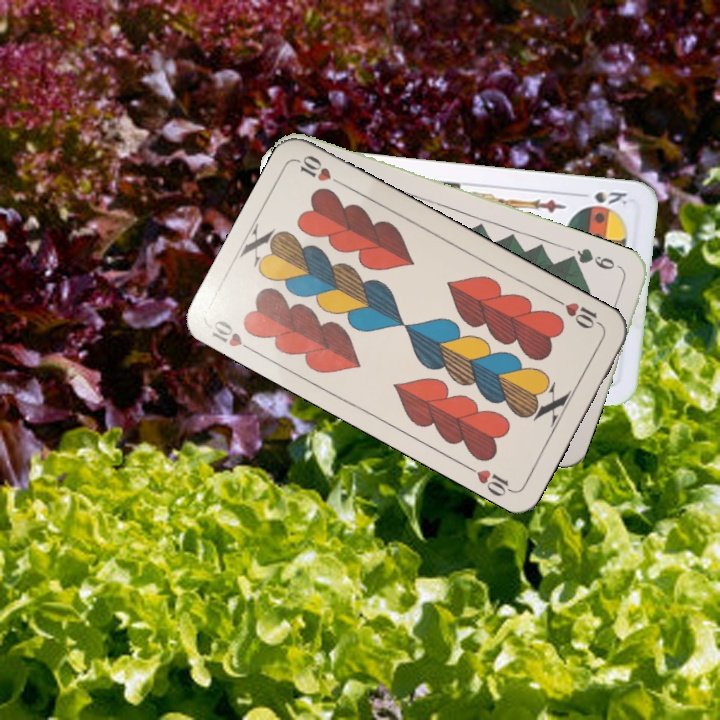G9: (567, 244, 626, 274)
H10: (207, 316, 259, 356), (551, 294, 605, 332)
SK: (573, 187, 630, 208)
